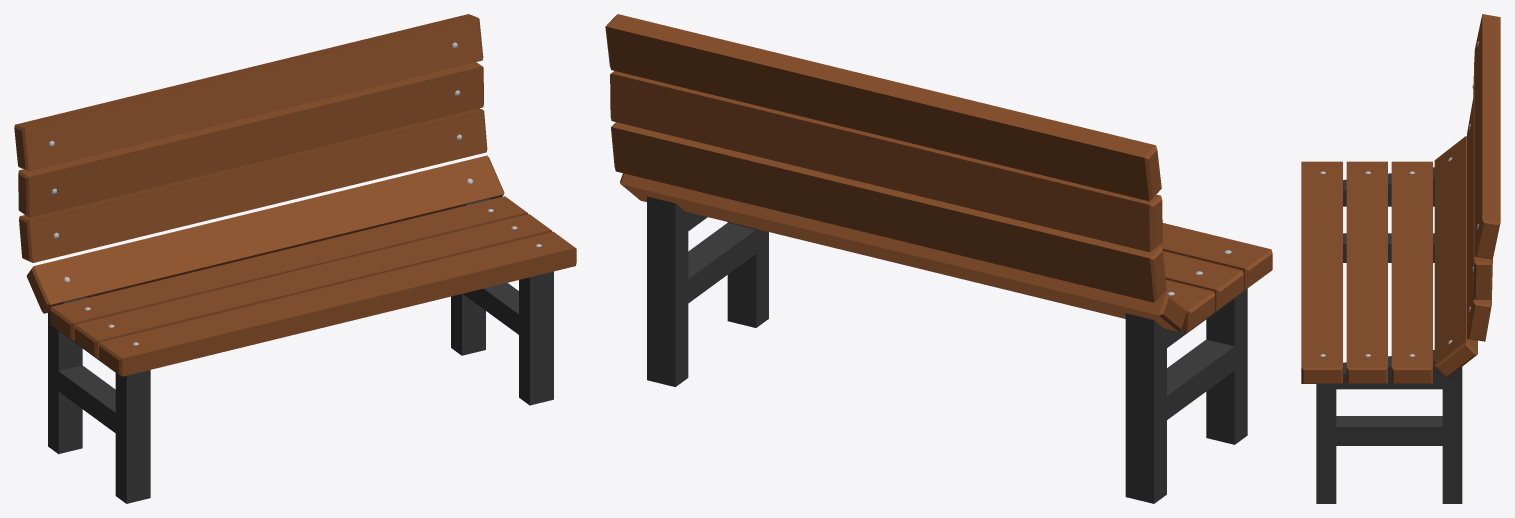
The model's file is Bench_2.fbx.
3 views of the same model, side by side, from view 1: azimuth 30°, elevation 25°; view 2: azimuth 150°, elevation 25°; view 3: azimuth 270°, elevation 25° (orthographic). The views are drawn at different scales.
Parts seen in each view (by area): view 1: Bench_2; view 2: Bench_2; view 3: Bench_2.
Part boxes in pixels (box(x1,y1,x2,y2)): Bench_2: box(14, 14, 576, 503); Bench_2: box(605, 14, 1272, 503); Bench_2: box(1301, 14, 1500, 503).
Size of the model in its own units: 169 by 110 by 68.39.
